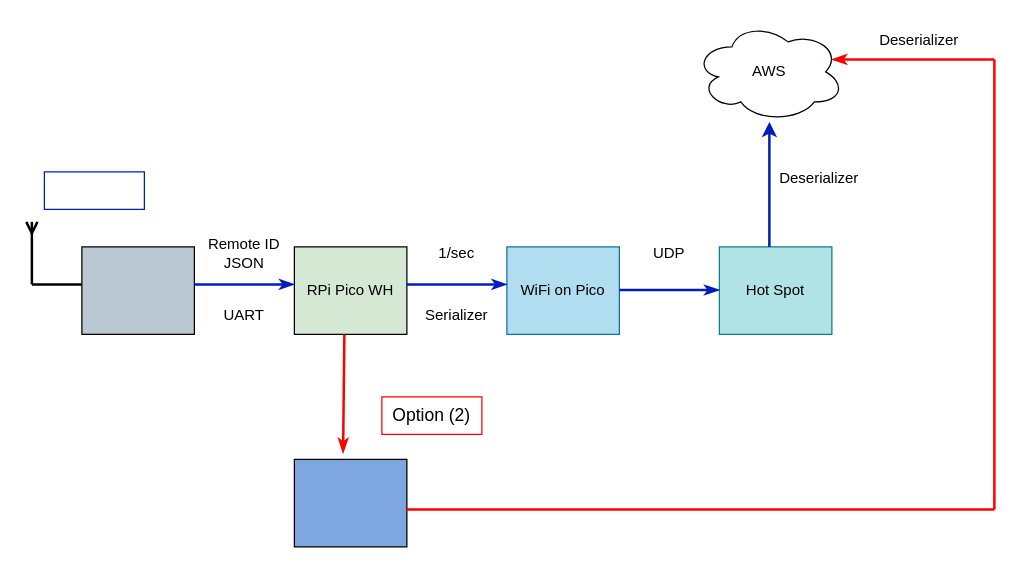
Image size: 1026x569. Some labels were removed from this diagram. The box of each missing label's shape, as (x1, y1, x2, y2) in pixels:
ESP32-S3: (81, 246, 194, 334)
LTE: (293, 458, 407, 547)
Option (1): (43, 171, 144, 209)
